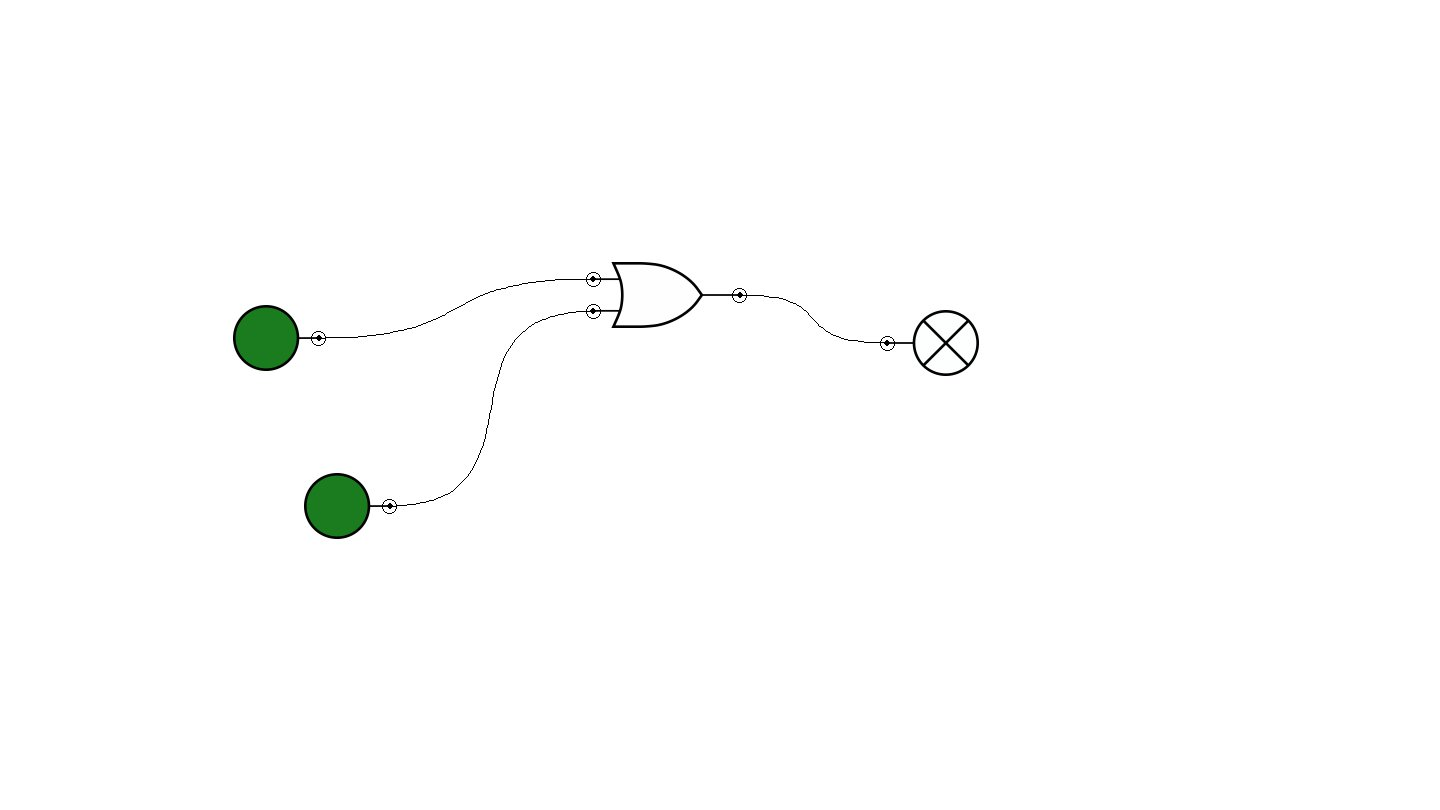bulb: (880, 310, 979, 376)
or: (586, 262, 747, 328)
switch_True: (304, 473, 397, 539), (233, 305, 326, 371)
